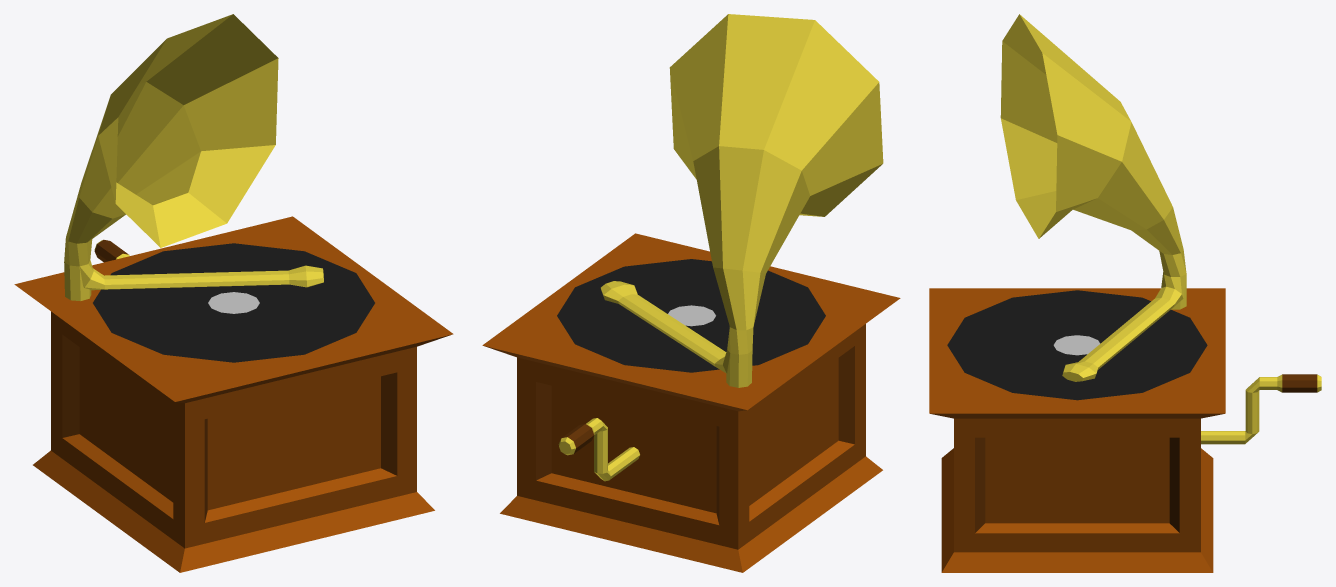
File: Gramophone.fbx
The picture shows the model from 3 angles, left to right: view 1: azimuth 30°, elevation 25°; view 2: azimuth 150°, elevation 25°; view 3: azimuth 270°, elevation 25°; orthographic projection. The views are drawn at different scales.
Visible parts, largest first — view 1: Gramophone, Gramophone.001; view 2: Gramophone, Gramophone.001; view 3: Gramophone, Gramophone.001.
Boxes of the visible parts, left/top/right/bottom form: Gramophone: left=14, top=14, right=453, bottom=572; Gramophone.001: left=93, top=243, right=374, bottom=362; Gramophone: left=482, top=14, right=900, bottom=572; Gramophone.001: left=557, top=259, right=825, bottom=372; Gramophone: left=929, top=14, right=1321, bottom=572; Gramophone.001: left=947, top=290, right=1207, bottom=400.
Bounding box in the file's own units: 56.41 × 89.43 × 69.57.
